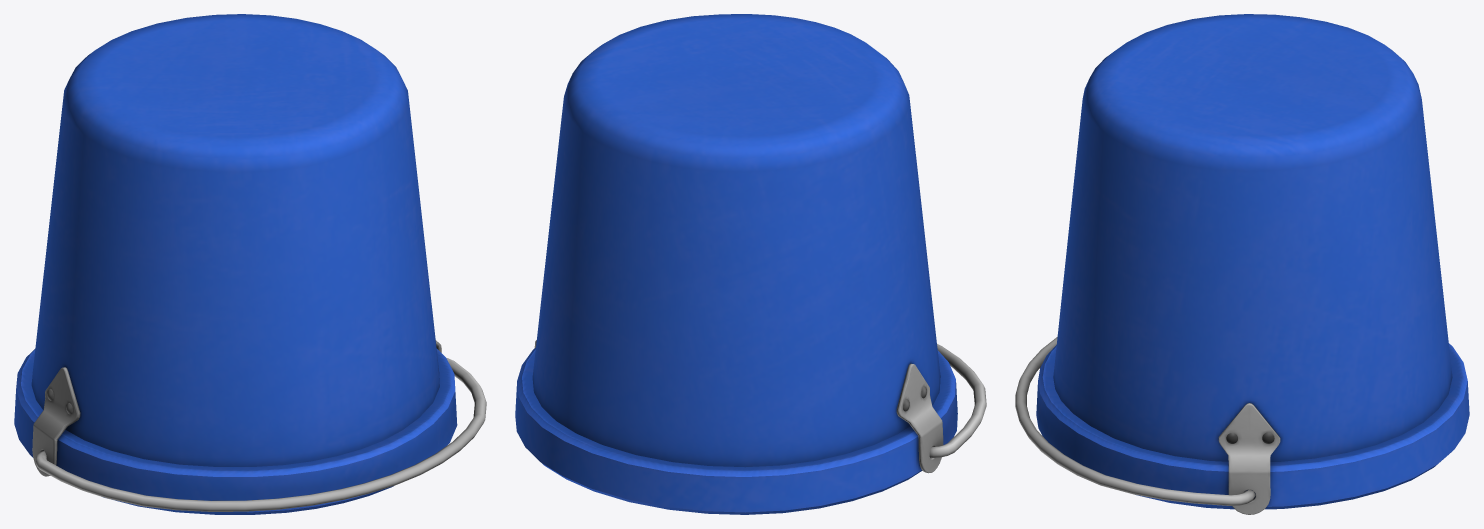
Rendered from ChristmasRoom_Bucket.fbx.
3 views of the same model, side by side, from view 1: azimuth 30°, elevation 25°; view 2: azimuth 150°, elevation 25°; view 3: azimuth 270°, elevation 25° (orthographic).
Parts seen in each view (by area): view 1: ChristmasRoom_Bucket; view 2: ChristmasRoom_Bucket; view 3: ChristmasRoom_Bucket.
Part boxes in pixels (bbox=[...]): ChristmasRoom_Bucket: bbox=[14, 14, 486, 514]; ChristmasRoom_Bucket: bbox=[515, 14, 986, 514]; ChristmasRoom_Bucket: bbox=[1015, 14, 1469, 514].
Size of the model in its own units: 19.95 by 15.89 by 19.05.
